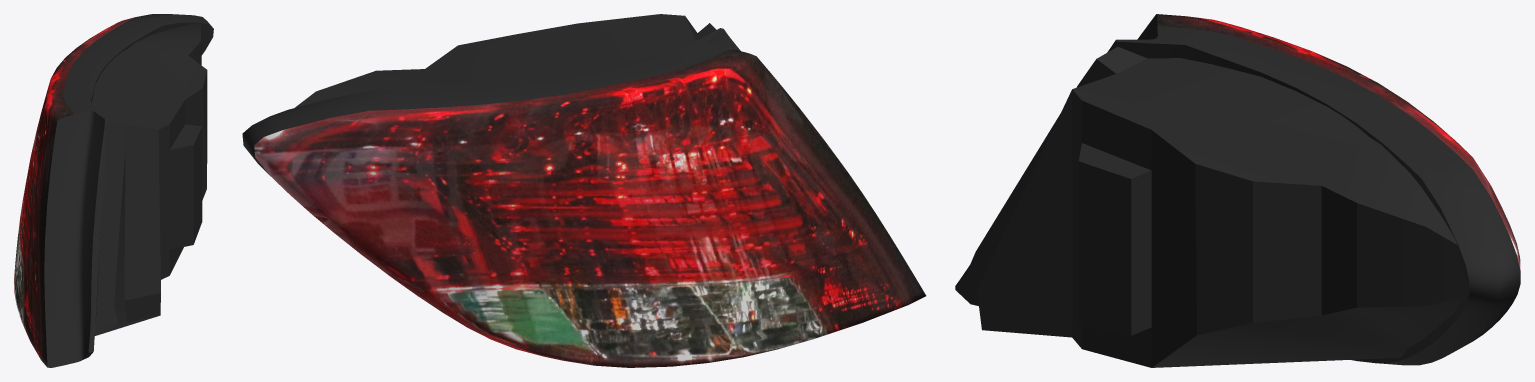
The model's file is E5_灯光系统_后尾灯总成.FBX.
3 renders of one model, left to right at view 1: azimuth 30°, elevation 25°; view 2: azimuth 150°, elevation 25°; view 3: azimuth 270°, elevation 25°, orthographic. The views are drawn at different scales.
Visible parts, largest first — view 1: HWD_Z; view 2: HWD_Z; view 3: HWD_Z.
Part boxes in pixels (left/top/right/bottom): HWD_Z: left=14, top=14, right=213, bottom=367; HWD_Z: left=242, top=14, right=926, bottom=367; HWD_Z: left=955, top=14, right=1520, bottom=367.
Bounding box in the file's own units: 42.75 × 24.95 × 39.98.
